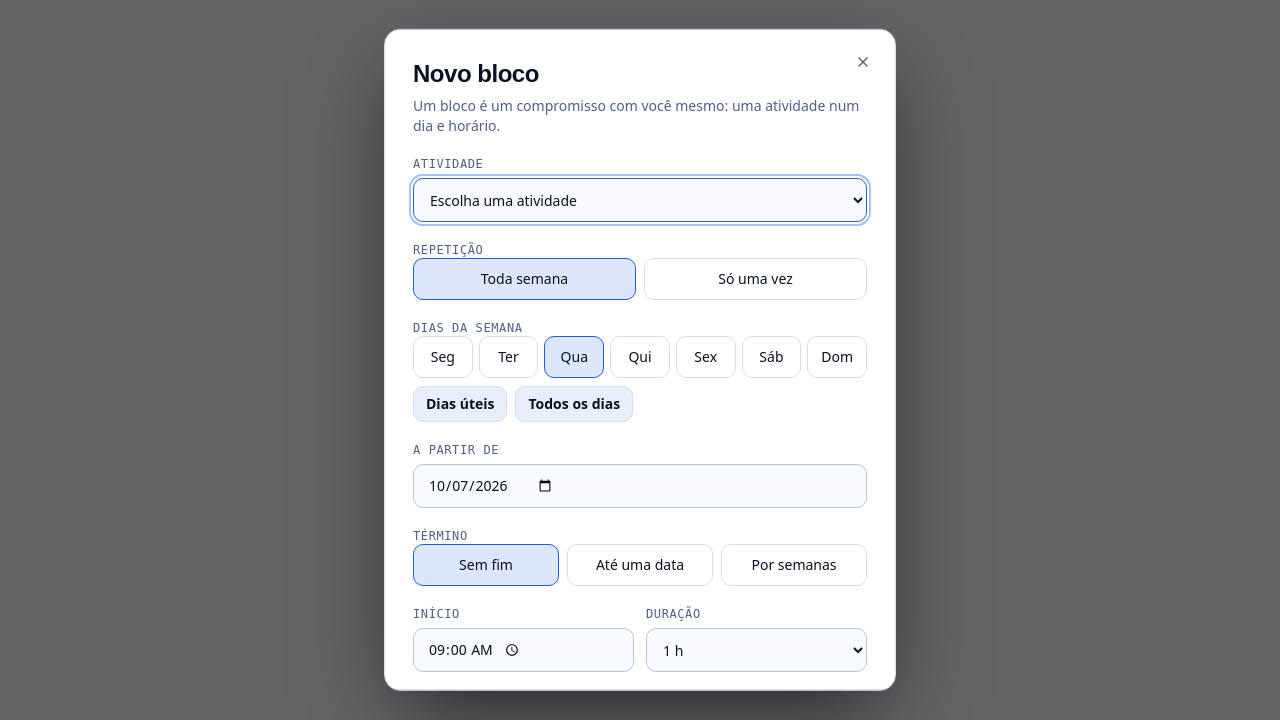
Scenario: BlockFormDialog › com vários dias, a data de início acompanha o primeiro deles
Expected: the dropdown labelled "Atividade" is shown, [413,178,867,222]
Click the checkbox named "Sexta-feira" at (706, 357), box [676,336,736,378]
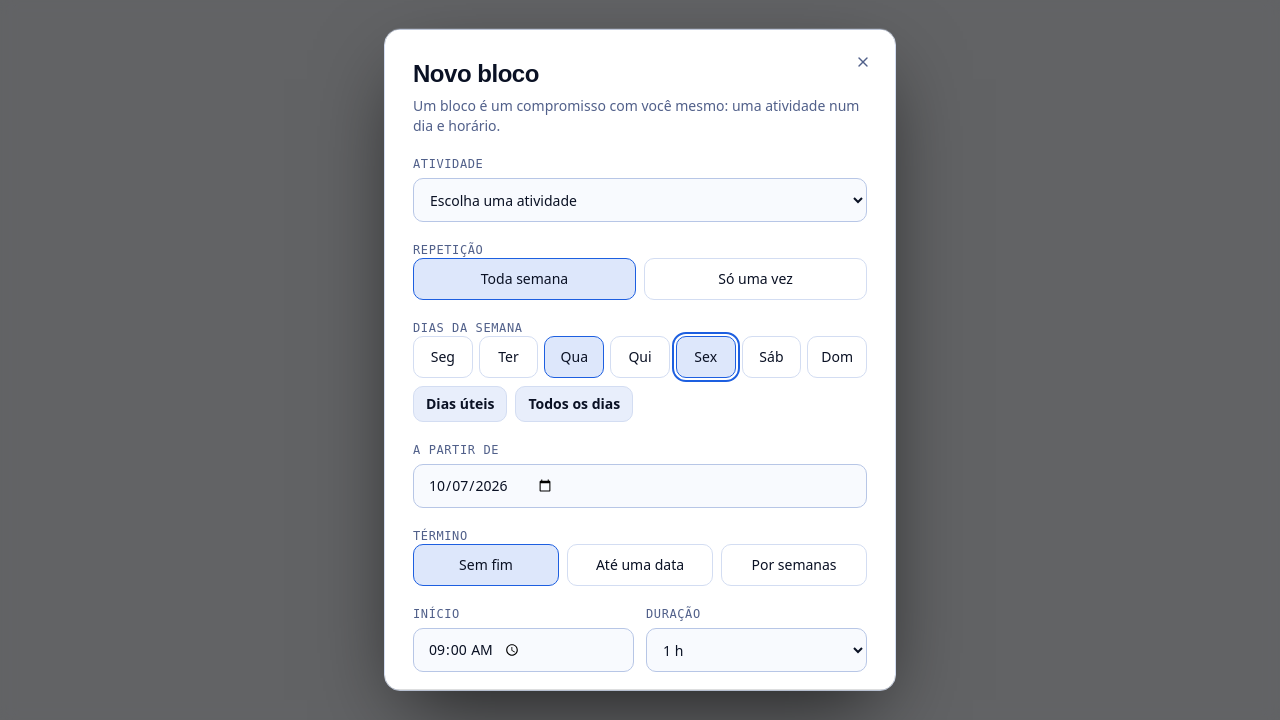
Expected: the date field labelled "A partir de" holds "2026-10-07", [413,464,867,508]
Click the checkbox named "Terça-feira" at (509, 357), box [479,336,538,378]
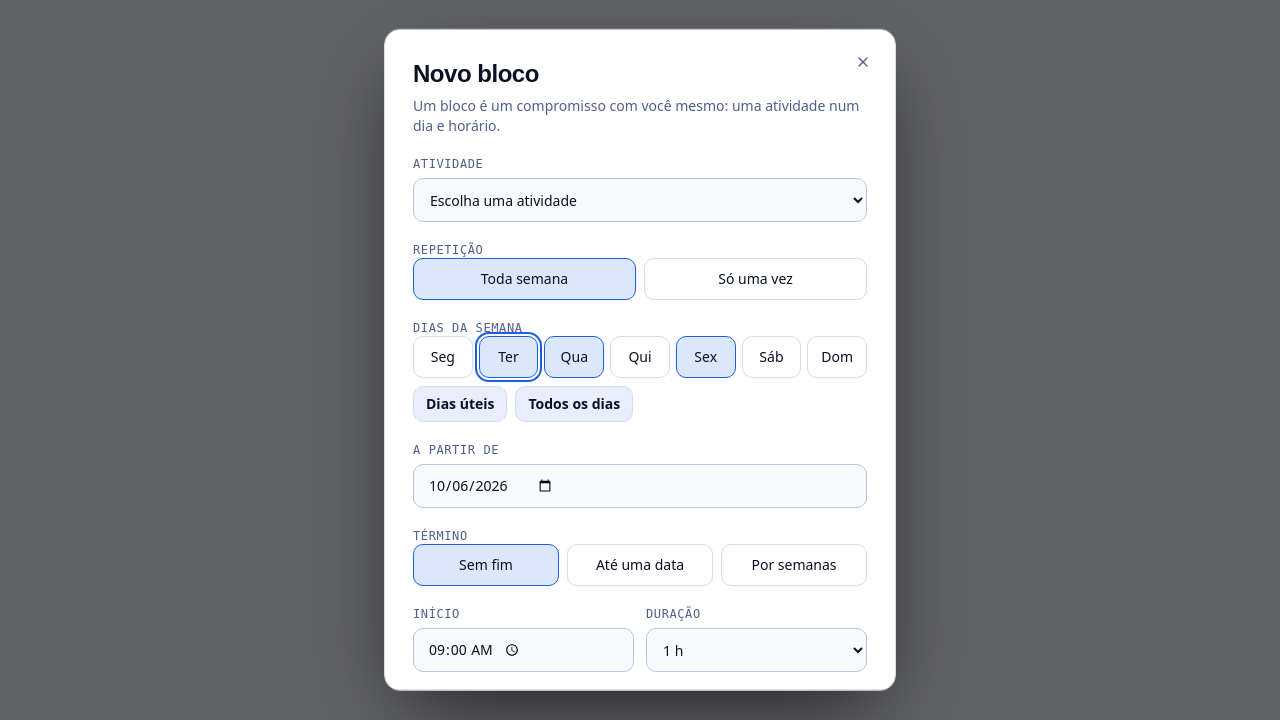
Now the date field labelled "A partir de" holds "2026-10-06", box [413,464,867,508]
